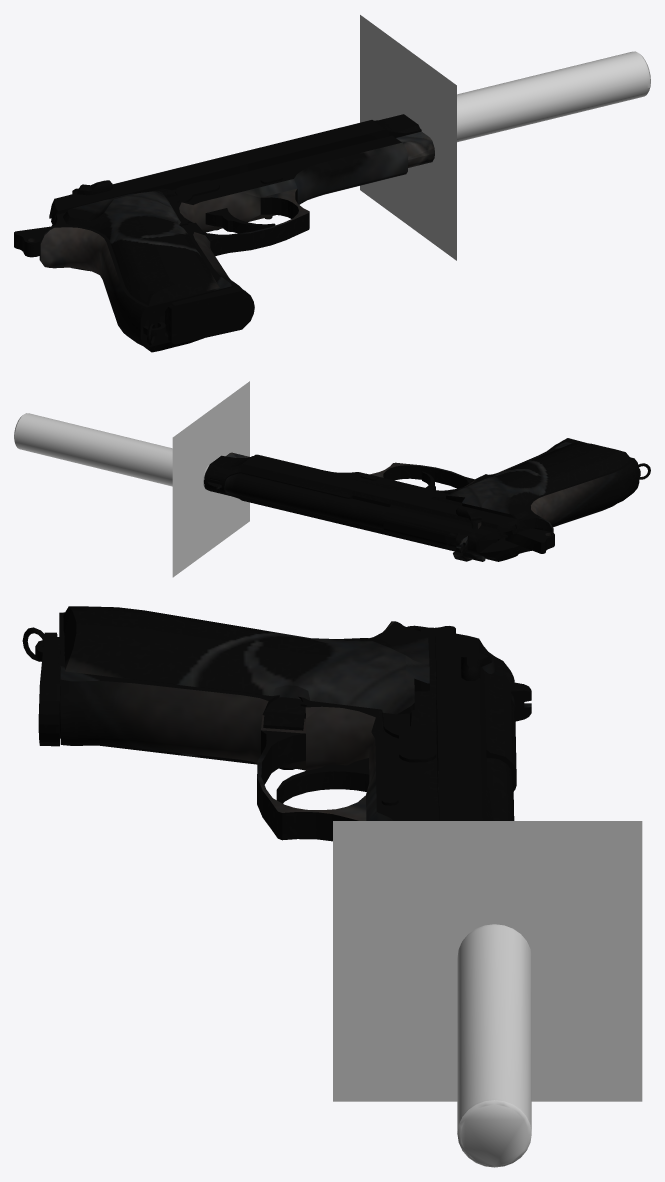
Rendered from beretta.obj.
The picture shows the model from 3 angles, top to bottom: view 1: azimuth 30°, elevation 25°; view 2: azimuth 150°, elevation 25°; view 3: azimuth 270°, elevation 25°; orthographic projection. The views are drawn at different scales.
Visible parts, largest first — view 1: gunModel, flashModel, silencer_OGFObject0.001, slideModel, ammoModel; view 2: gunModel, slideModel, flashModel, silencer_OGFObject0.001; view 3: flashModel, gunModel, silencer_OGFObject0.001, slideModel, ammoModel.
Part boxes in pixels (<box>): gunModel: <box>14,135,407,352</box>; flashModel: <box>360,15,456,260</box>; silencer_OGFObject0.001: <box>457,51,650,142</box>; slideModel: <box>49,114,434,226</box>; ammoModel: <box>165,286,254,344</box>; gunModel: <box>224,441,650,555</box>; slideModel: <box>204,452,520,561</box>; flashModel: <box>172,381,249,577</box>; silencer_OGFObject0.001: <box>14,413,209,487</box>; flashModel: <box>333,821,642,1101</box>; gunModel: <box>22,606,514,841</box>; silencer_OGFObject0.001: <box>457,924,531,1167</box>; slideModel: <box>435,630,531,820</box>; ammoModel: <box>38,632,436,746</box>.
Size of the model in its own units: 12.93 by 3.39 by 6.78.
